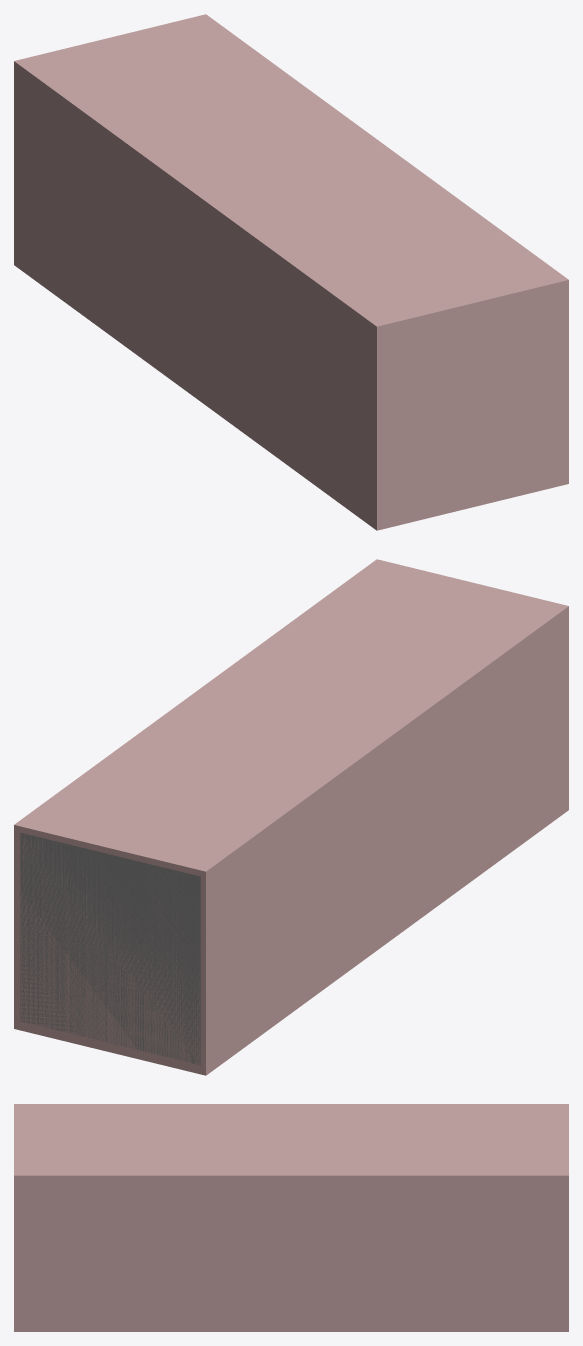
Rendered from ruins_RuinWallSegment_02.glb.
3 views of the same model, one above another, from view 1: azimuth 30°, elevation 25°; view 2: azimuth 150°, elevation 25°; view 3: azimuth 270°, elevation 25° (orthographic). The views are drawn at different scales.
Parts seen in each view (by area): view 1: geometry_0; view 2: geometry_0; view 3: geometry_0.
Boxes of the visible parts, x1,y1,x2,y2 form: geometry_0: (14,14,568,530); geometry_0: (14,559,568,1075); geometry_0: (14,1104,568,1331).
Bounding box in the file's own units: 1.6 × 1.62 × 5.23.
